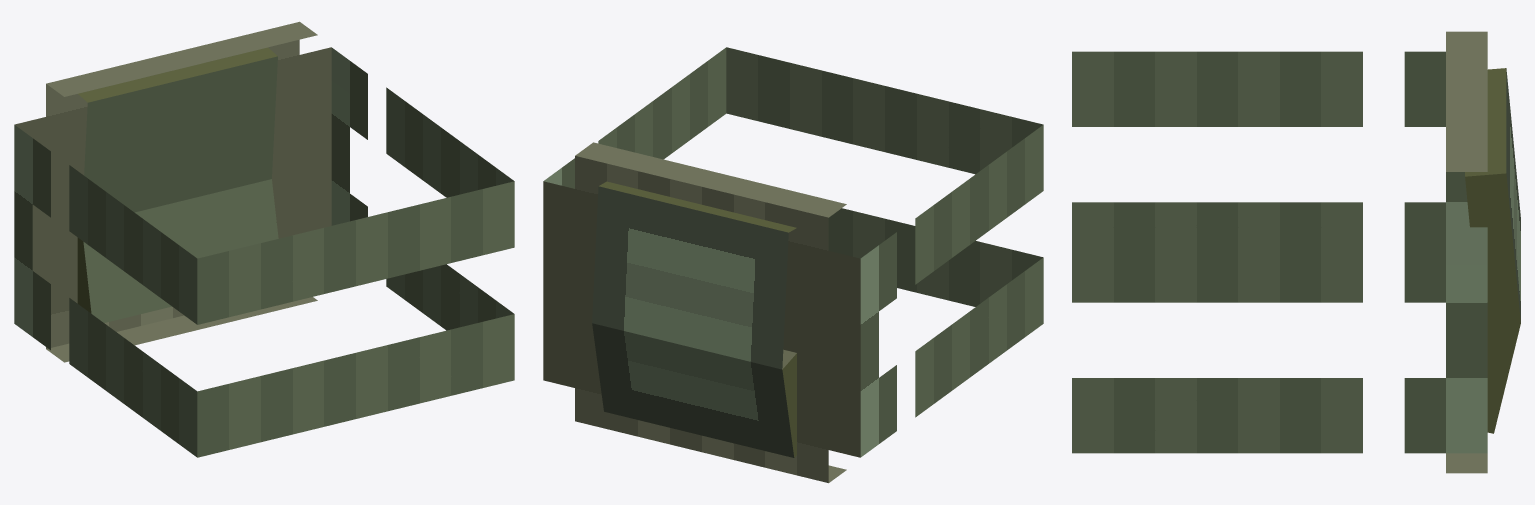
3 views of the same model, side by side, from view 1: azimuth 30°, elevation 25°; view 2: azimuth 150°, elevation 25°; view 3: azimuth 270°, elevation 25° (orthographic). The views are drawn at different scales.
Parts seen in each view (by area): view 1: mesh; view 2: mesh; view 3: mesh.
Part boxes in pixels (x1,y1,x2,y2): mesh: (14,21,514,457); mesh: (543,47,1043,483); mesh: (1072,31,1520,473).
Bounding box in the file's own units: 0.3125 × 0.25 × 0.3375.
